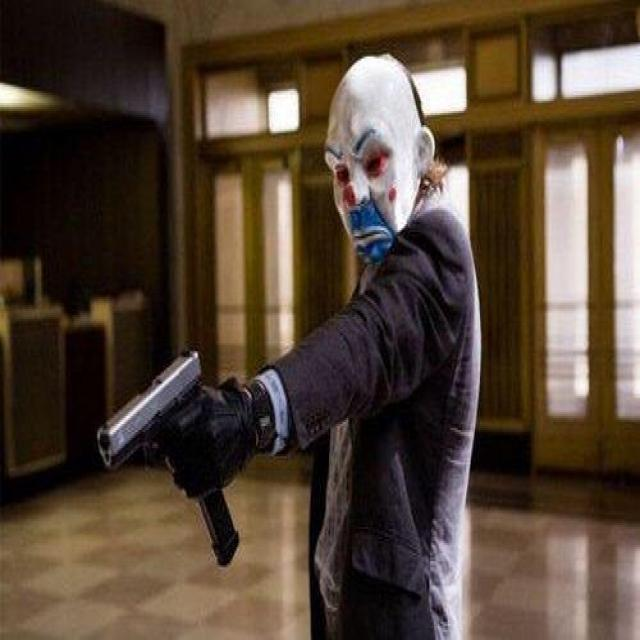gun: (95, 345, 238, 571)
